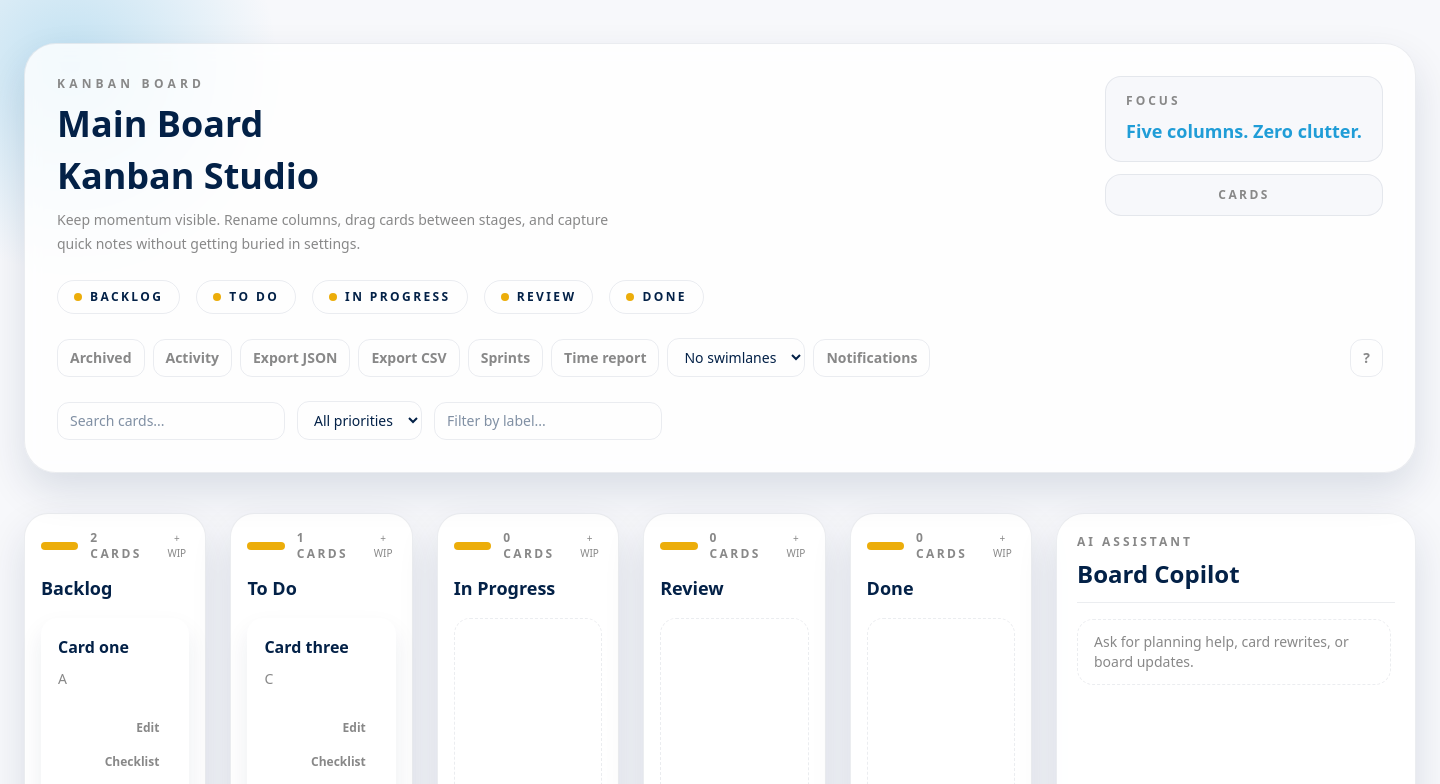
Scenario: KanbanBoard › shows error when rename column fails
Replace the text in the 1st field named "Column title" with "Bad Name" at (115, 588), box [41,574,189,602]
(page scrolled)
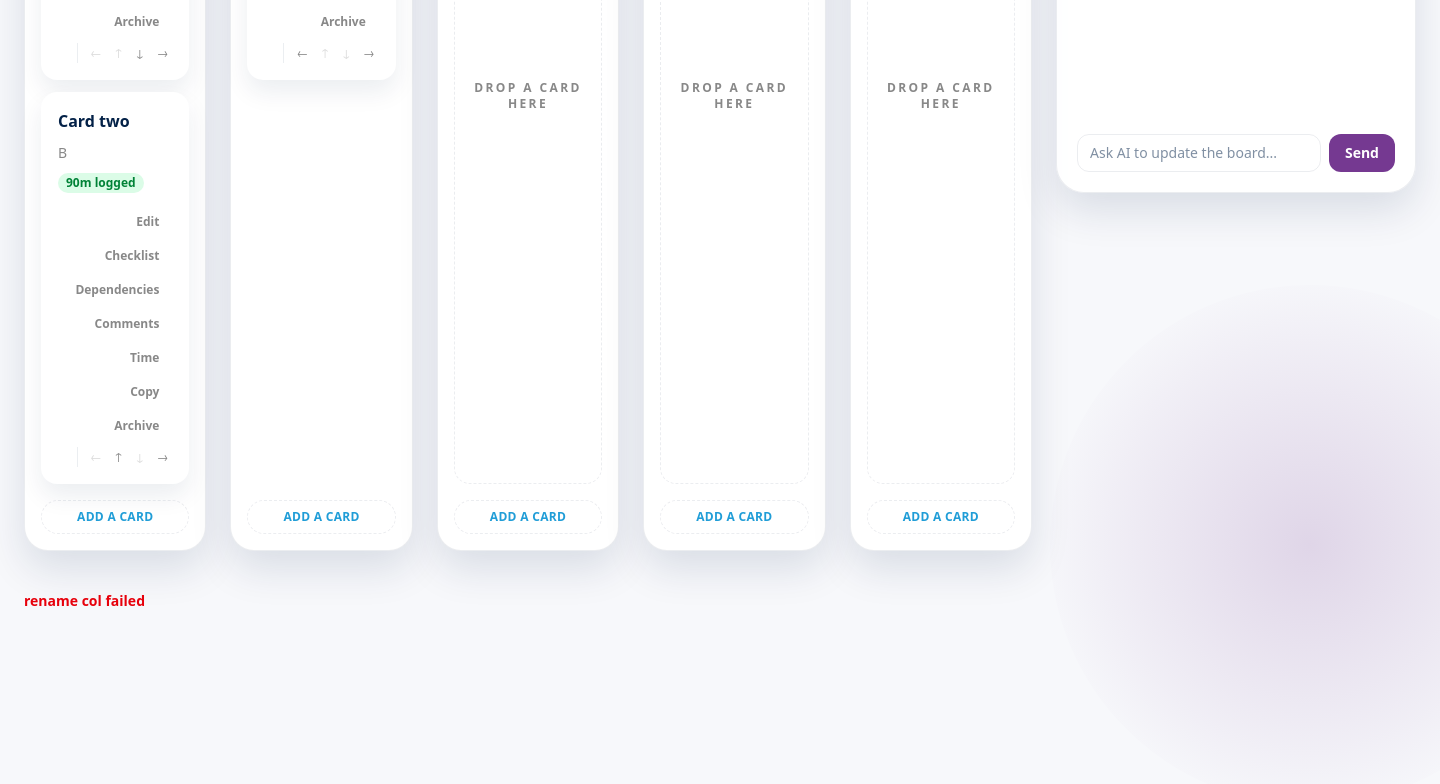
Expected: the message reads "rename col failed", [24,591,145,610]
